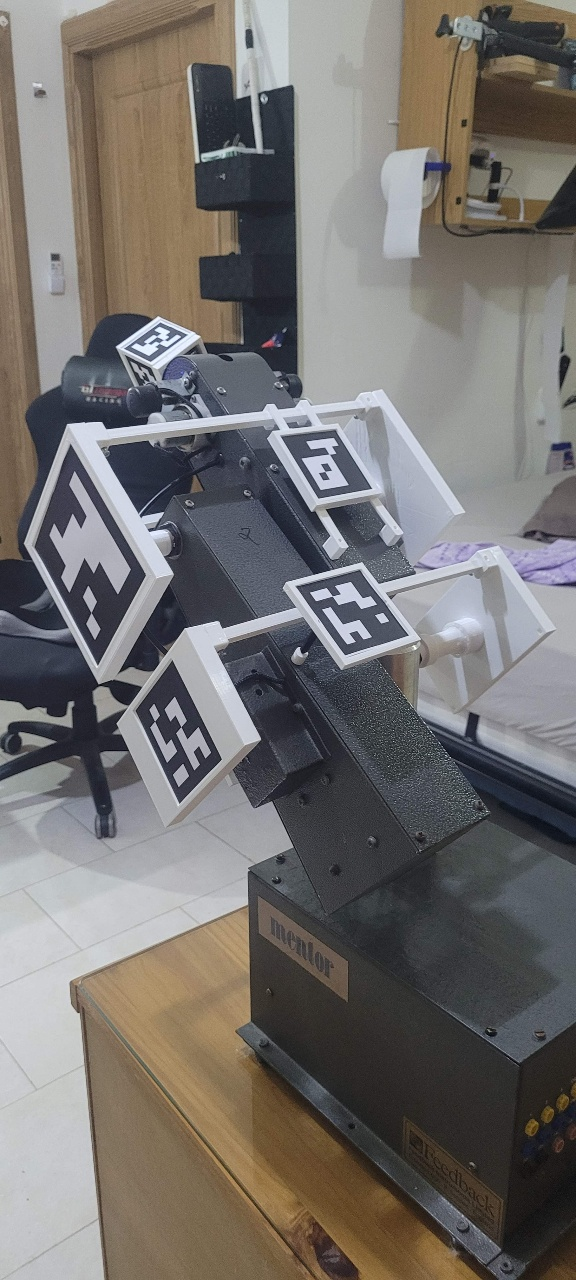Robot: (22, 313, 560, 923)
